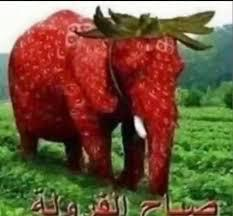strawberry-elephant: (6, 9, 210, 195)
